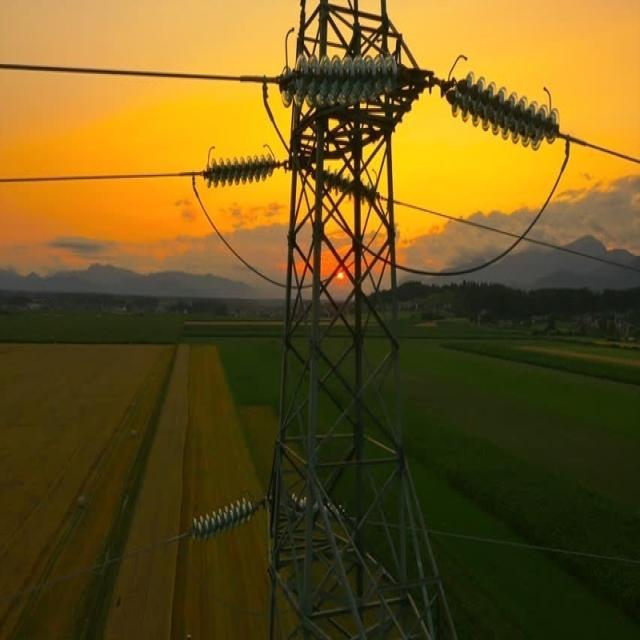non-critical vegetation: (188, 11, 518, 622)
